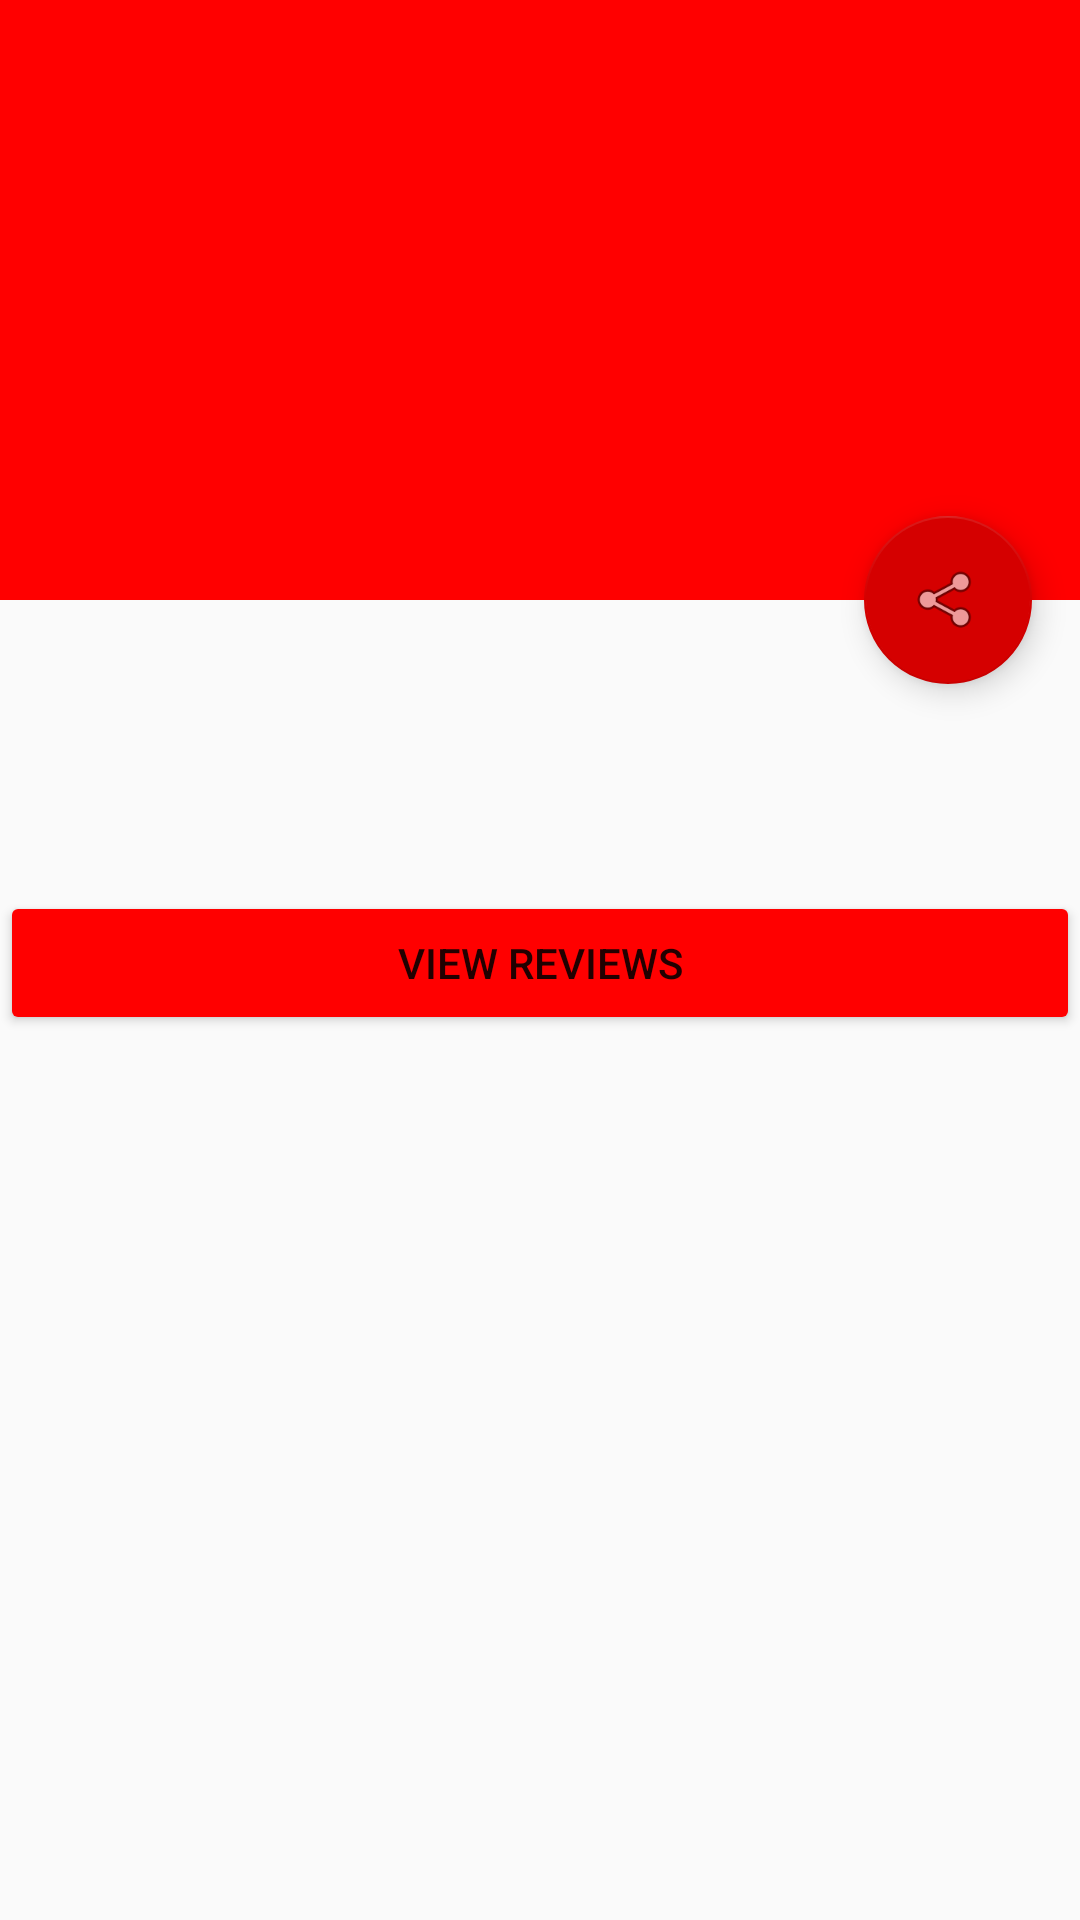

Named icons in this screenshot (1080*1920) and their centers, (x,y):
share: (948,600)
